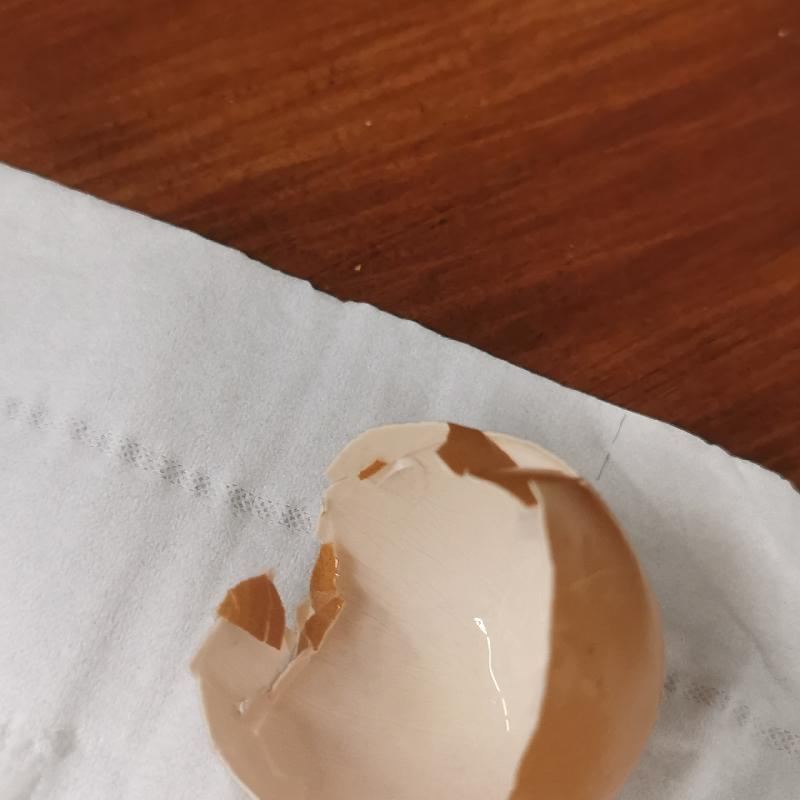eggshell: (183, 421, 666, 800)
